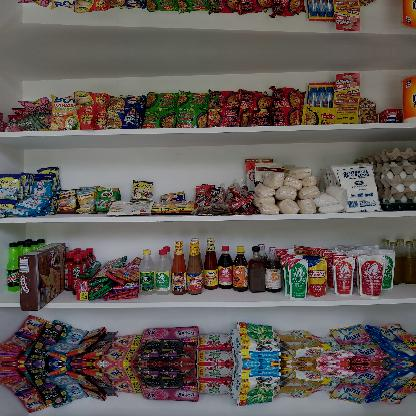Koko-Krunch: (16, 240, 68, 312)
